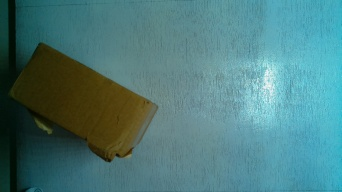a: (5, 38, 164, 165)
